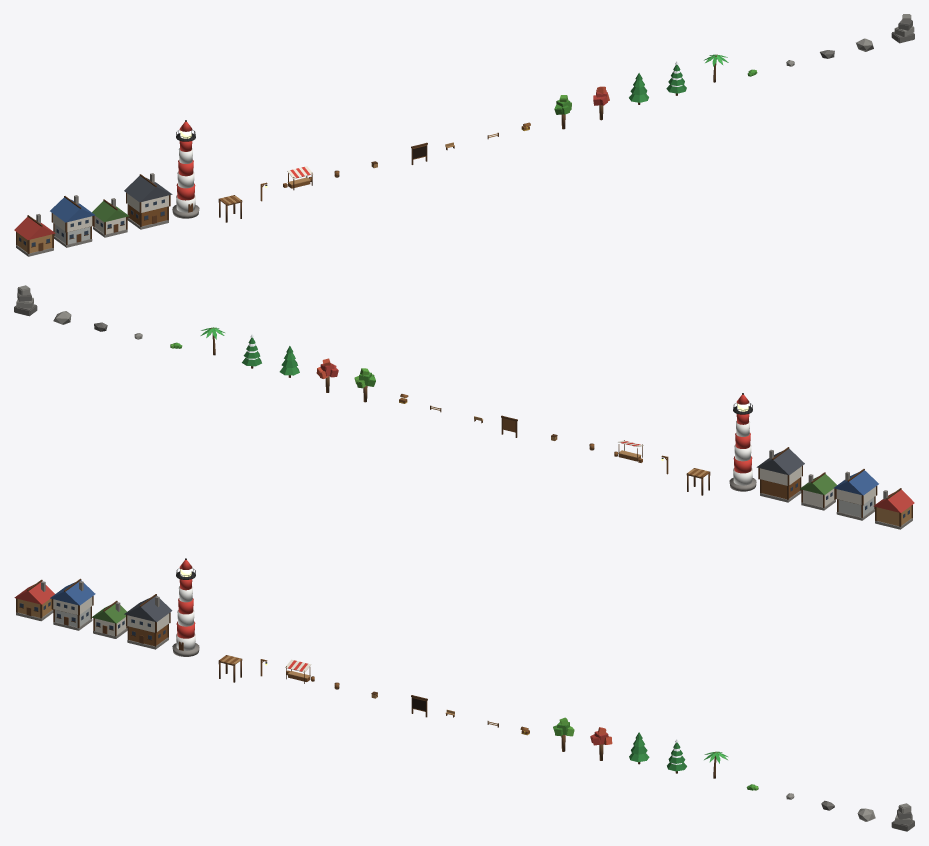
Rendered from world.glb.
3 renders of one model, top to bottom at view 1: azimuth 30°, elevation 25°; view 2: azimuth 150°, elevation 25°; view 3: azimuth 330°, elevation 25°, orthographic.
Visible parts, largest first — view 1: house_d, house_b, lighthouse, house_a, house_c; view 2: house_d, house_b, lighthouse, house_a, house_c, cliff; view 3: house_d, house_b, lighthouse, house_a, house_c.
Part boxes in pixels (x1=…): house_d: x1=124, y1=173, x2=172, y2=229; house_b: x1=50, y1=195, x2=95, y2=247; lighthouse: x1=172, y1=120, x2=199, y2=218; house_a: x1=14, y1=214, x2=55, y2=256; house_c: x1=92, y1=198, x2=129, y2=237; house_d: x1=756, y1=447, x2=804, y2=502; house_b: x1=833, y1=469, x2=878, y2=520; lighthouse: x1=729, y1=393, x2=756, y2=491; house_a: x1=873, y1=488, x2=914, y2=529; house_c: x1=800, y1=472, x2=836, y2=510; cliff: x1=14, y1=285, x2=37, y2=316; house_d: x1=124, y1=594, x2=172, y2=649; house_b: x1=50, y1=578, x2=95, y2=630; lighthouse: x1=172, y1=558, x2=199, y2=656; house_a: x1=14, y1=579, x2=54, y2=621; house_c: x1=91, y1=600, x2=127, y2=638.
Bounding box in the file's own units: 331 × 38.6 × 10.4.
